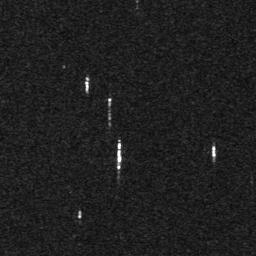ship: (115, 148, 124, 164), (84, 77, 92, 93), (210, 144, 218, 159)
